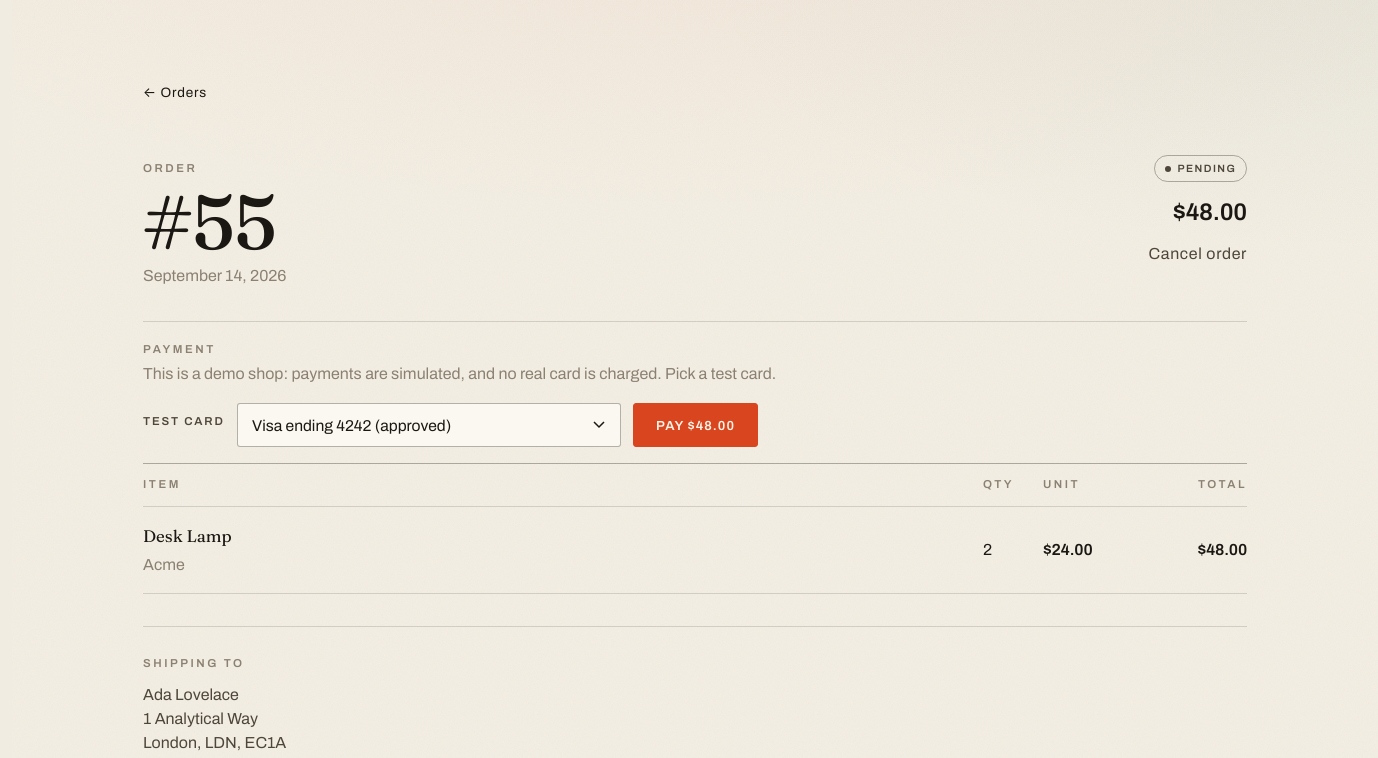
Test case: OrderDetailPage › cancels after confirming, and shows the new status
Click the button "Cancel order".
click(1198, 254)  # box [1148,242,1247,267]
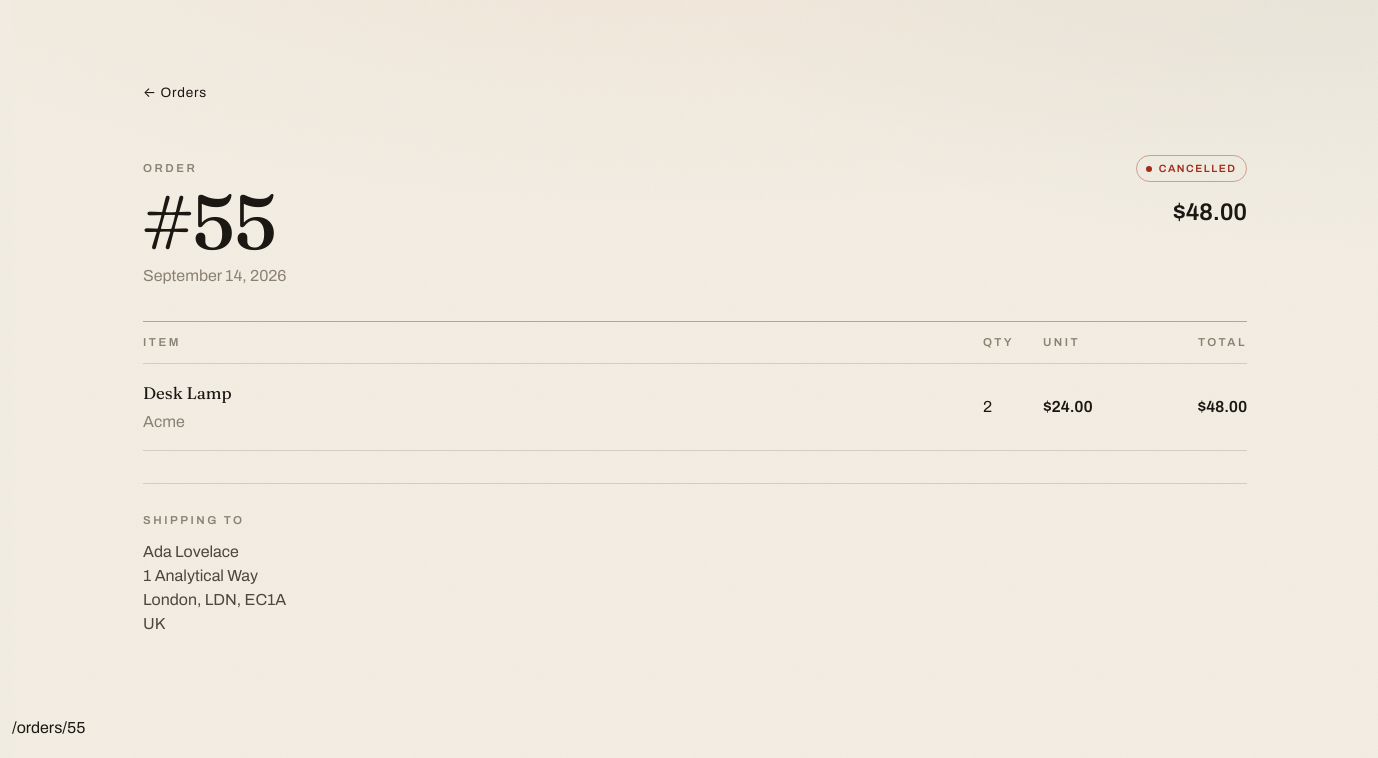
Expected: the button "Cancel order" is gone
Expected: the text "cancelled" is shown, [1136,155,1247,182]
